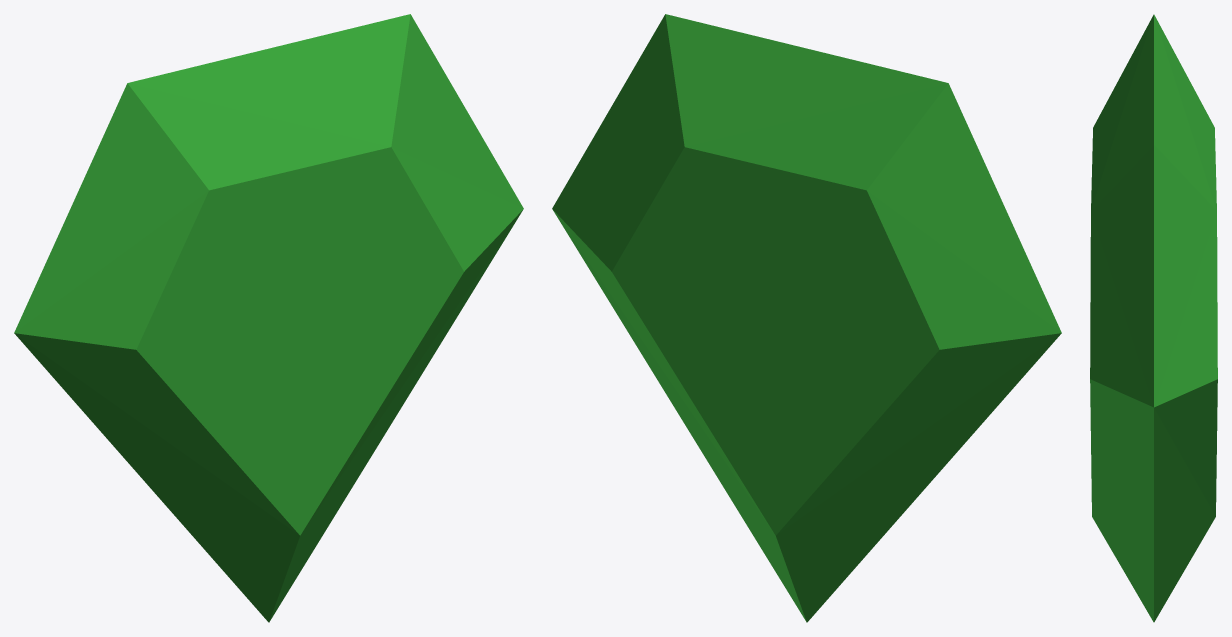
File: Jewel.glb
3 views of the same model, side by side, from view 1: azimuth 30°, elevation 25°; view 2: azimuth 150°, elevation 25°; view 3: azimuth 270°, elevation 25° (orthographic). The views are drawn at different scales.
Parts seen in each view (by area): view 1: Jewel_01_Plane; view 2: Jewel_01_Plane; view 3: Jewel_01_Plane.
Boxes of the visible parts, x1,y1,x2,y2 form: Jewel_01_Plane: [14, 14, 523, 622]; Jewel_01_Plane: [552, 14, 1061, 622]; Jewel_01_Plane: [1090, 14, 1217, 622].
Bounding box in the file's own units: 4.51 × 4.85 × 1.03.
